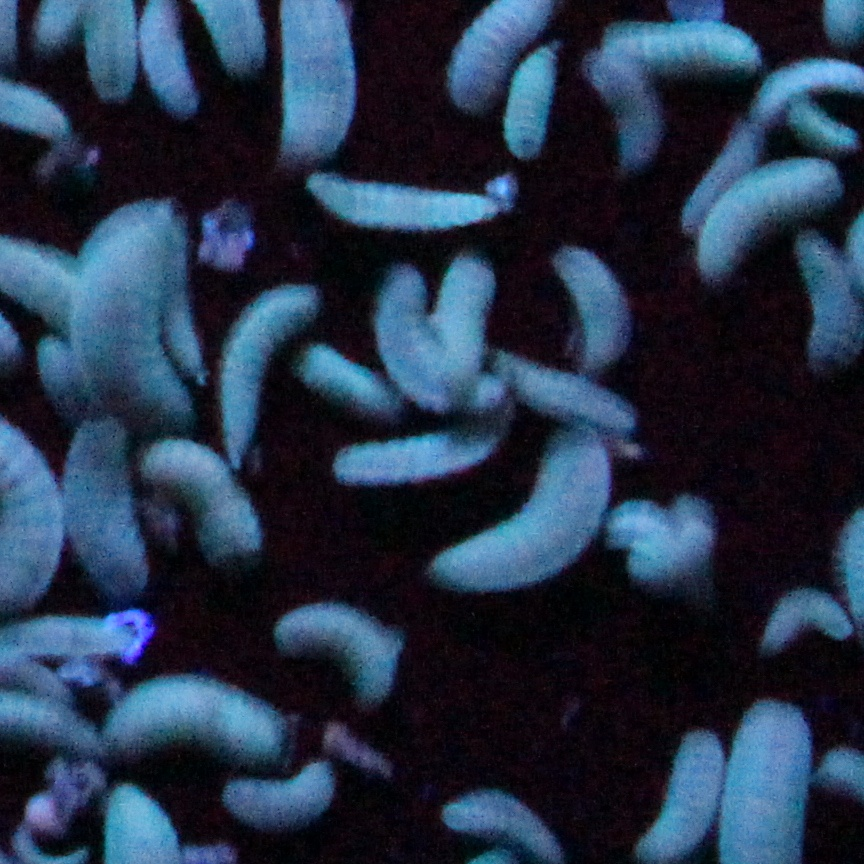larve: (428, 425, 618, 595), (83, 165, 189, 432), (203, 264, 320, 475), (87, 661, 290, 759), (120, 423, 264, 561), (695, 149, 844, 280), (300, 161, 516, 248), (264, 595, 413, 708), (548, 231, 643, 389), (434, 772, 574, 862), (603, 8, 762, 84), (749, 574, 862, 667), (221, 746, 336, 830)
